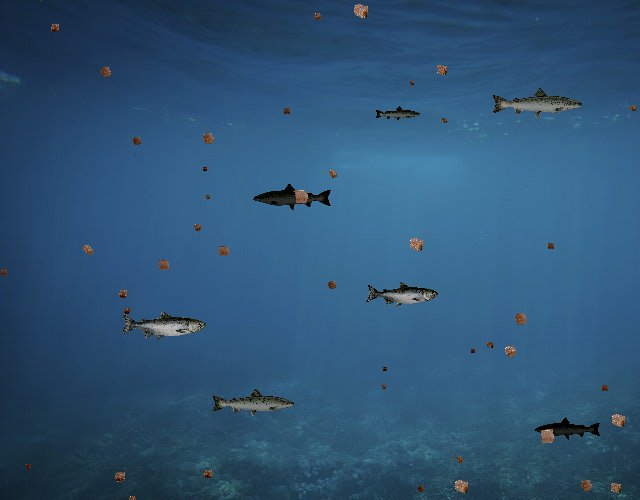Fish: (491, 86, 585, 120), (210, 387, 296, 418), (120, 310, 206, 341), (253, 183, 334, 212), (365, 281, 438, 308), (534, 416, 602, 441), (374, 106, 421, 123)
Pellet: (508, 306, 534, 332), (498, 339, 523, 364), (76, 239, 98, 261), (482, 338, 497, 352), (202, 192, 212, 202)
